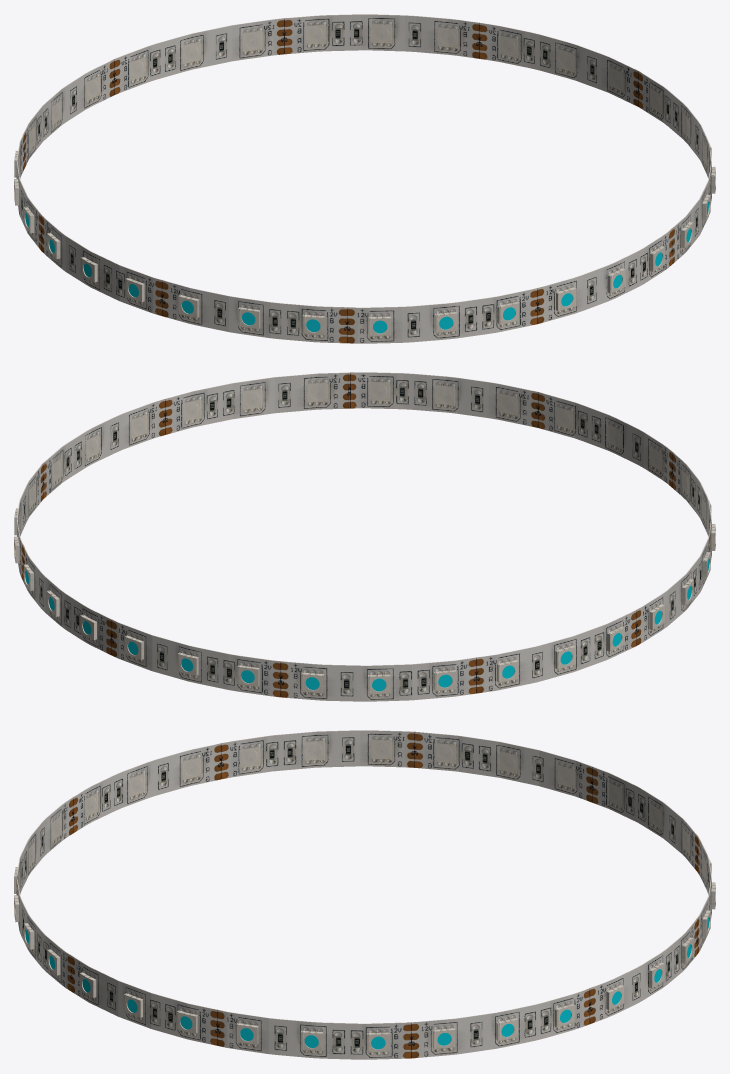
The model's file is led_strip_01.fbx.
3 views of the same model, one above another, from view 1: azimuth 30°, elevation 25°; view 2: azimuth 150°, elevation 25°; view 3: azimuth 270°, elevation 25° (orthographic).
Parts seen in each view (by area): view 1: LED Streifen; view 2: LED Streifen; view 3: LED Streifen.
Boxes of the visible parts, x1,y1,x2,y2 form: LED Streifen: (14,14,715,343); LED Streifen: (14,372,715,701); LED Streifen: (14,730,715,1059).
Bounding box in the file's own units: 4029 × 227 × 4024.
